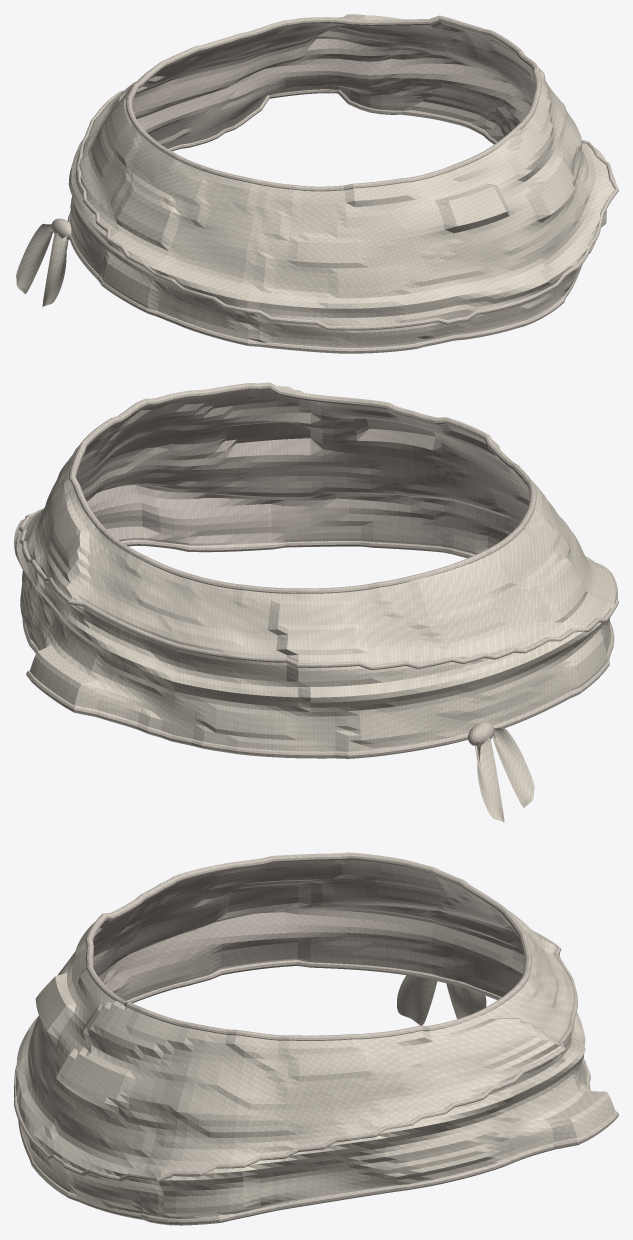
Rendered from side_oldwoman_headcloth.glb.
3 views of the same model, one above another, from view 1: azimuth 30°, elevation 25°; view 2: azimuth 150°, elevation 25°; view 3: azimuth 270°, elevation 25° (orthographic). The views are drawn at different scales.
Visible parts, largest first — view 1: wash_dyed_linen, lining, sewn_fold; view 2: wash_dyed_linen, lining, sewn_fold; view 3: wash_dyed_linen, lining, sewn_fold.
Boxes of the visible parts, x1,y1,x2,y2 form: wash_dyed_linen: (16, 14, 616, 347); lining: (132, 22, 535, 148); sewn_fold: (51, 15, 618, 353); wash_dyed_linen: (14, 386, 617, 822); lining: (76, 389, 529, 554); sewn_fold: (19, 382, 618, 758); wash_dyed_linen: (16, 910, 615, 1219); lining: (93, 859, 524, 1000); sewn_fold: (14, 852, 618, 1225).
Bounding box in the file's own units: 16.87 × 6.73 × 16.27.
3 materials, 3 textured.
